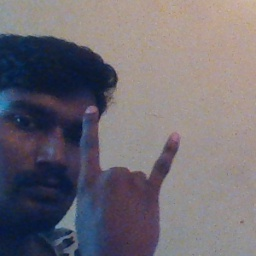V: (75, 104, 184, 256)
